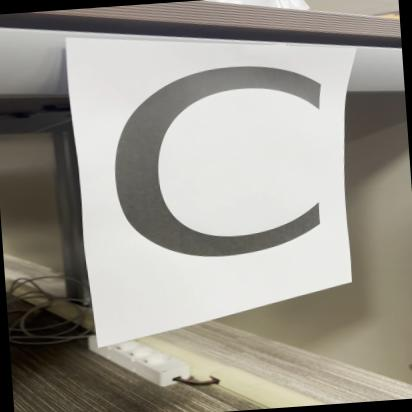seat: (80, 18, 369, 309)
